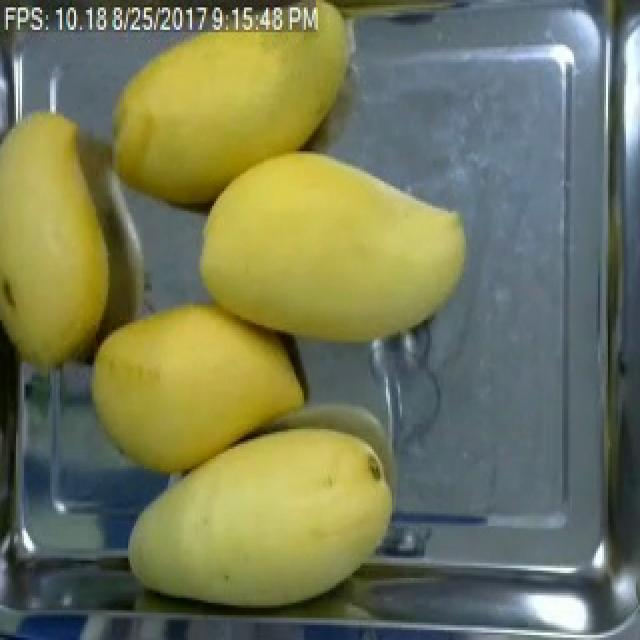fruit: (180, 141, 480, 355), (114, 414, 404, 623), (96, 12, 368, 218), (78, 293, 318, 486), (0, 104, 128, 377)
